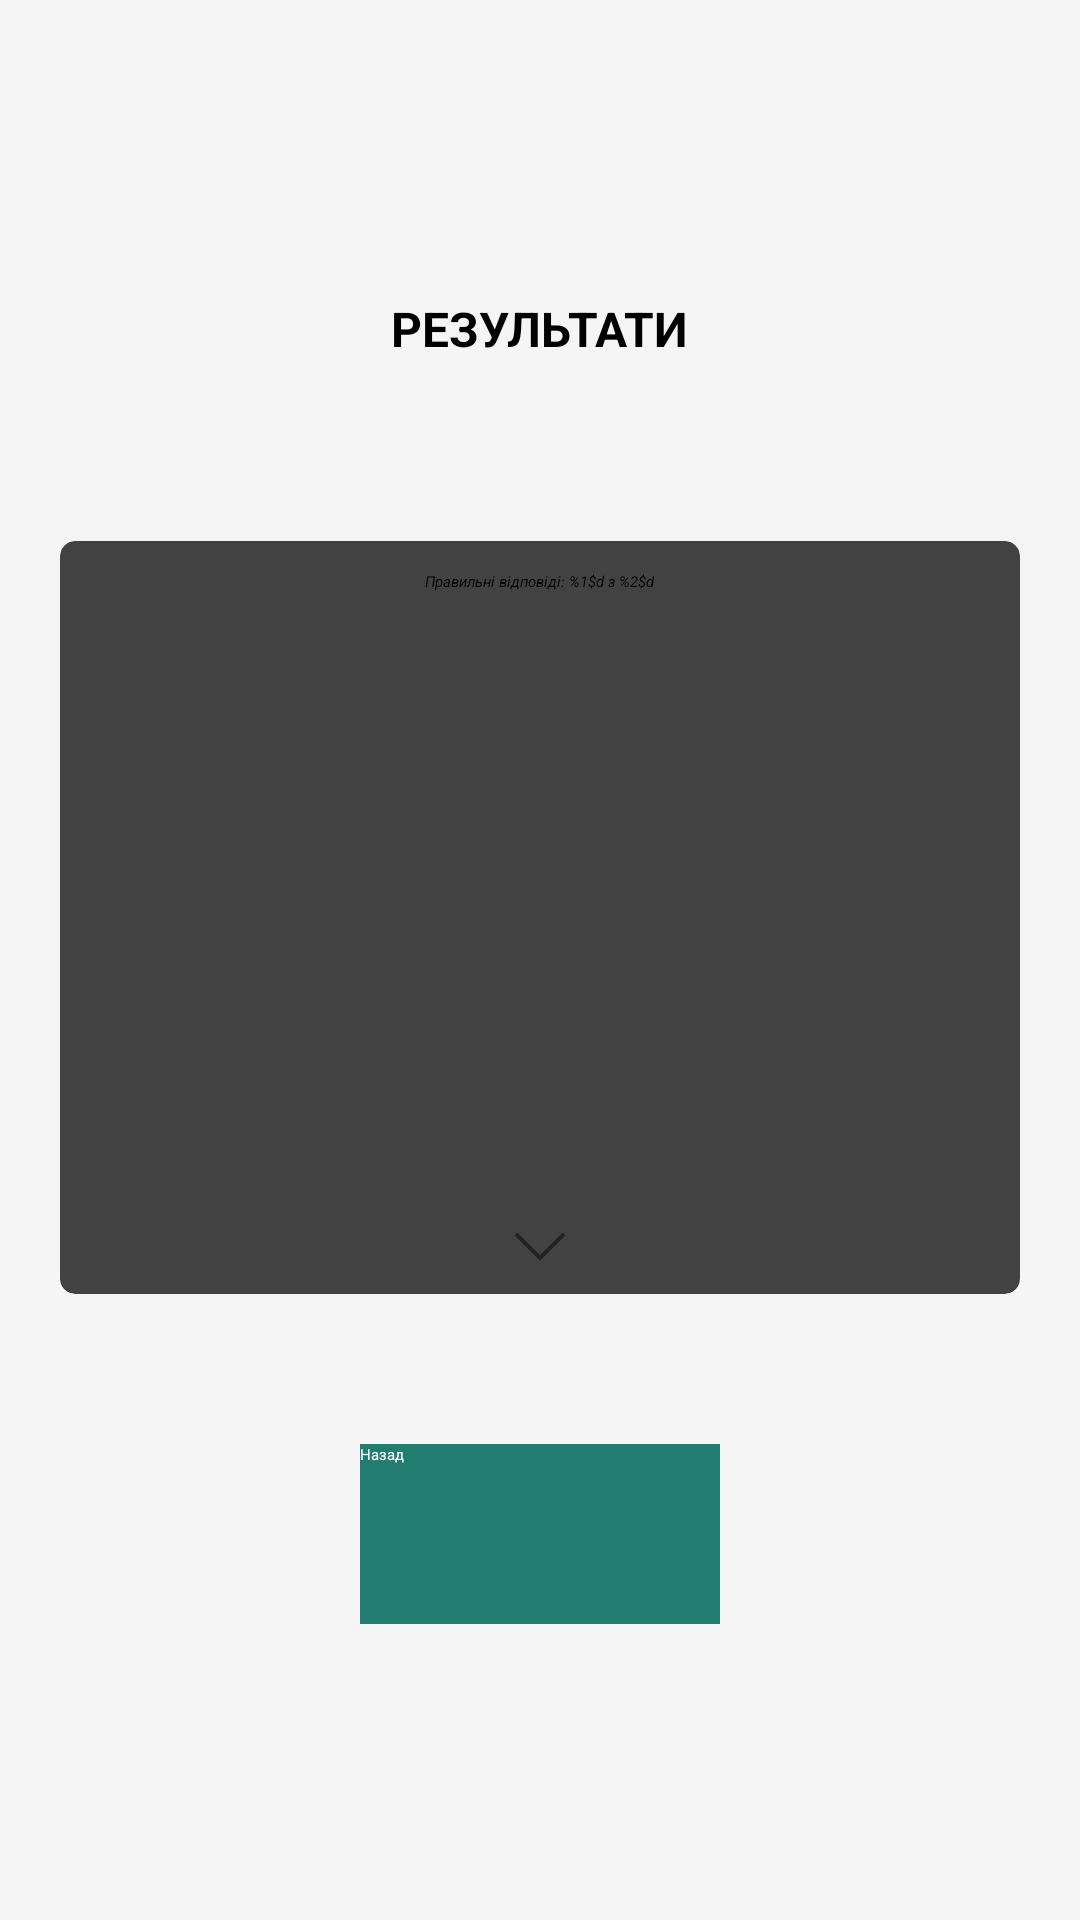

Where icons sit on this 1080px×1920px app screen, as (x1, y1, x2, y2):
Розгорнути: (515, 1233, 565, 1260)
